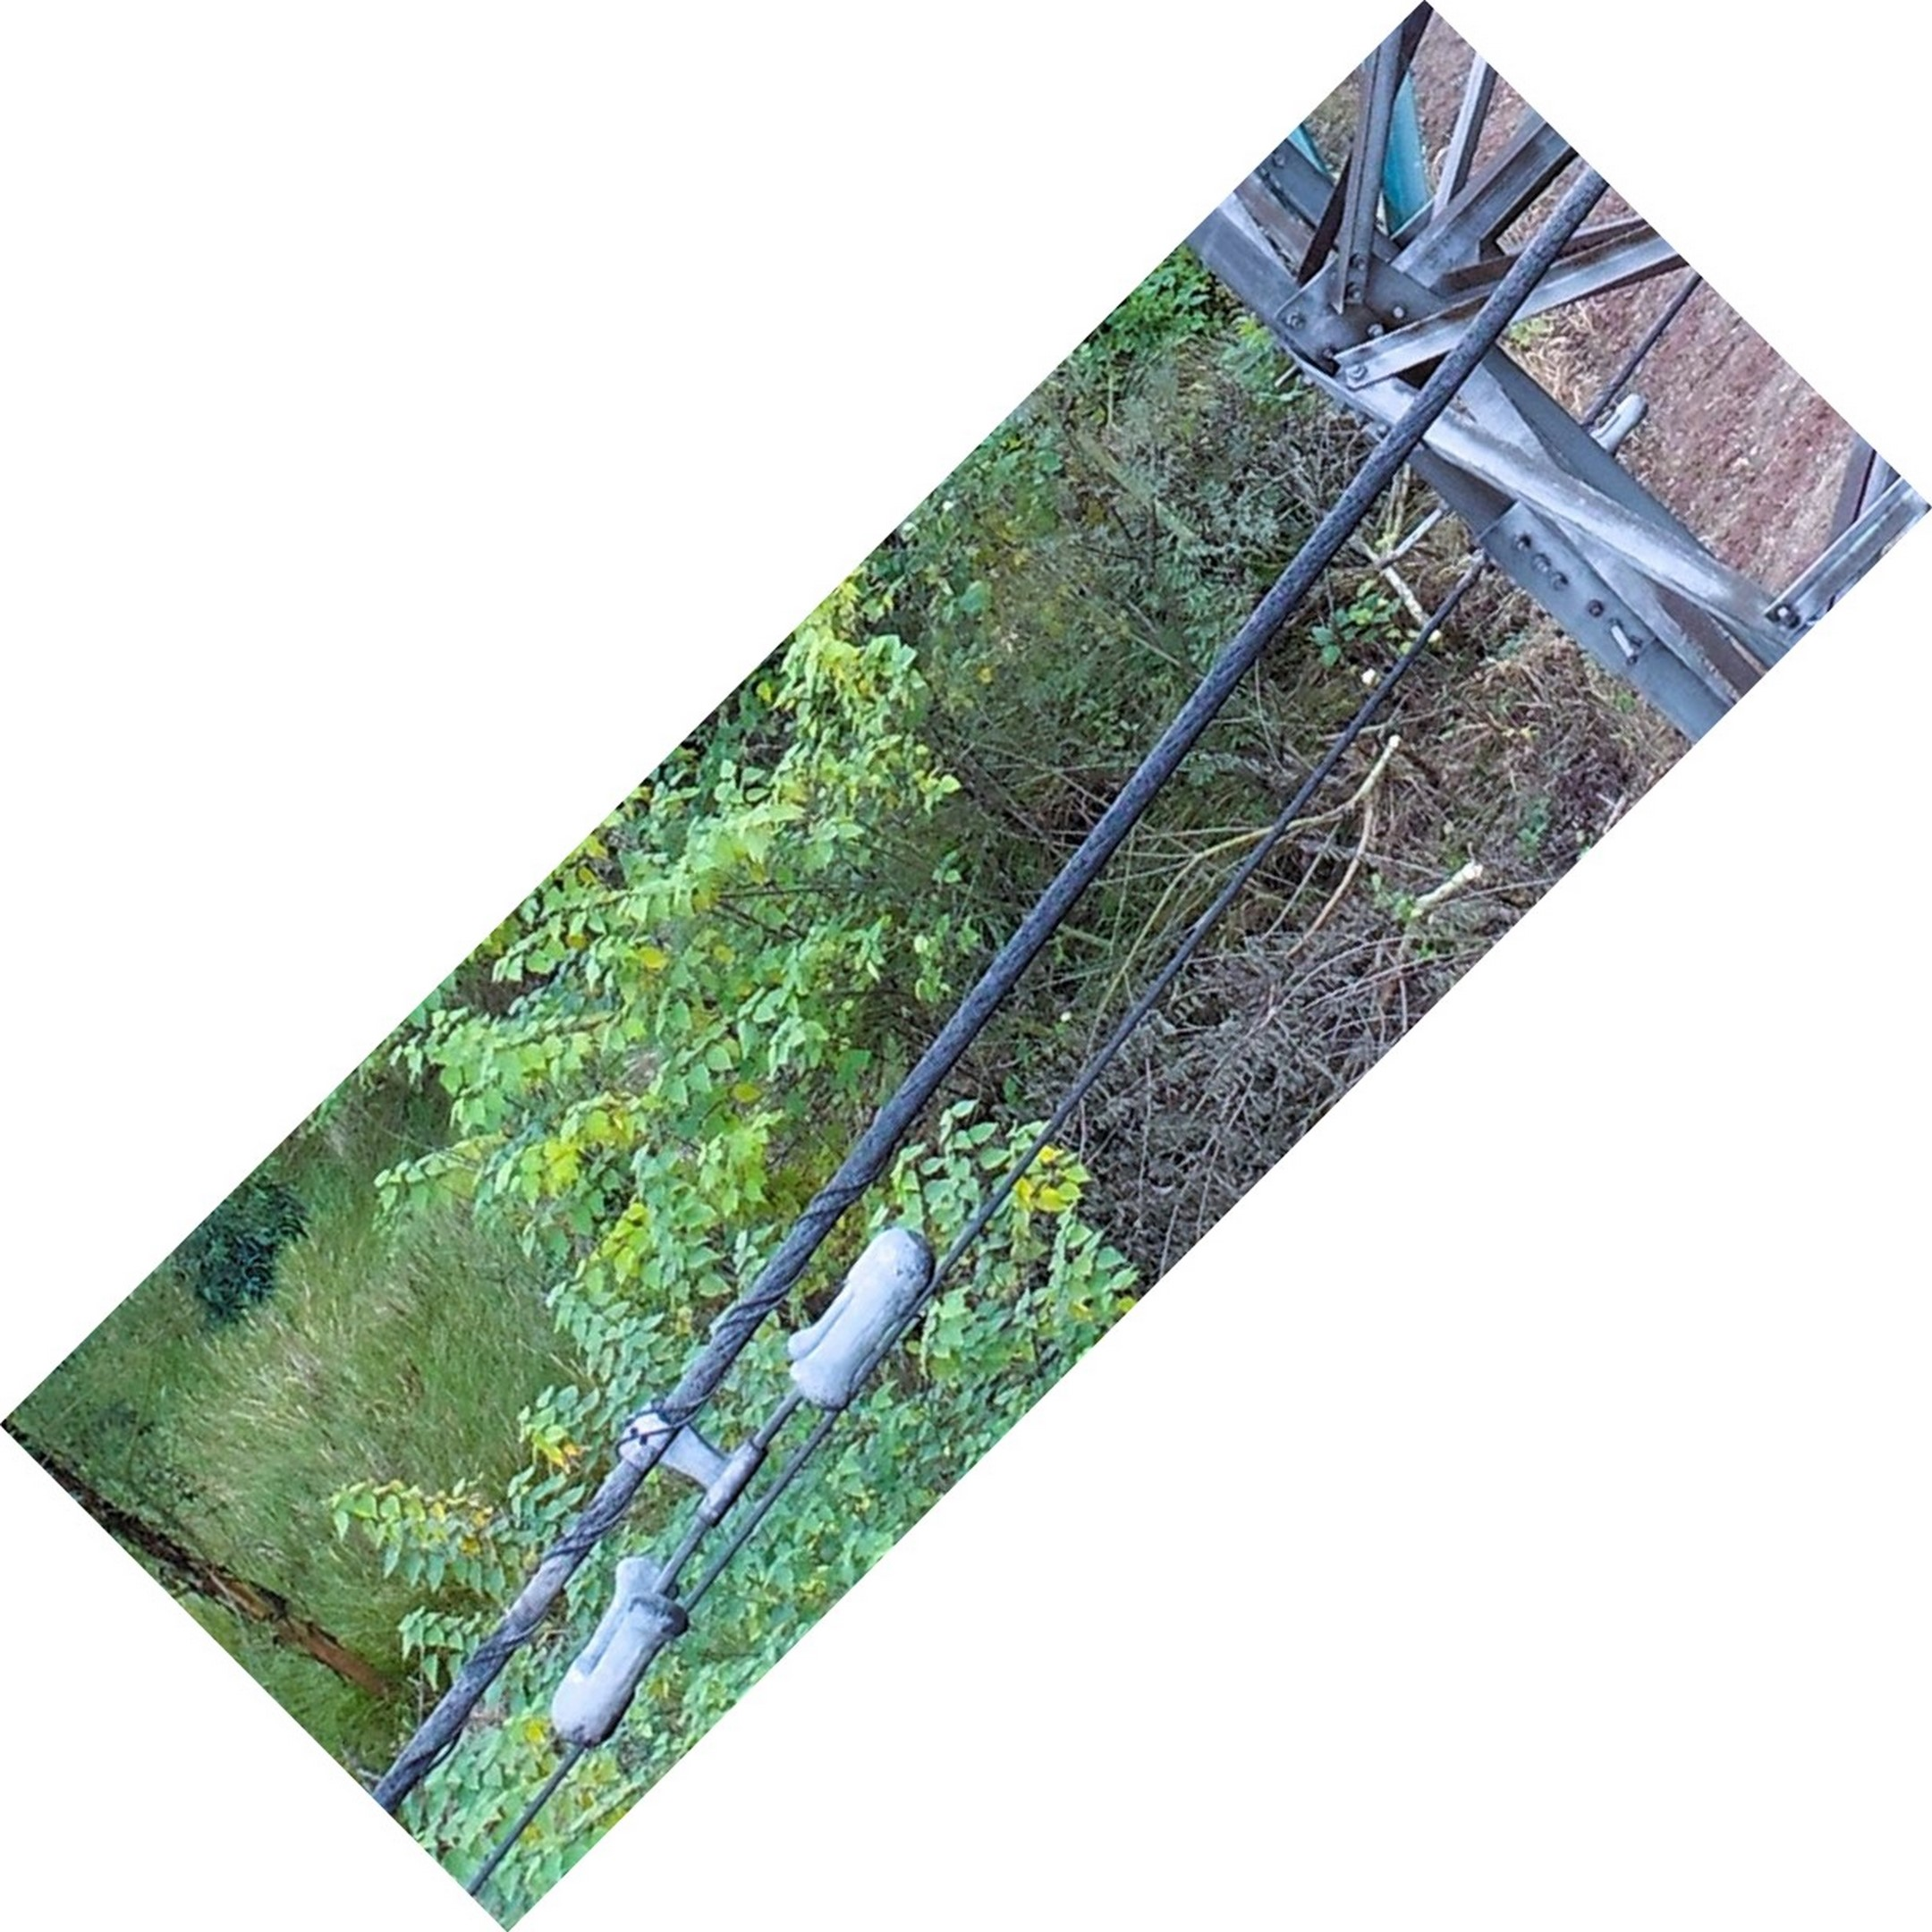Shockproof hammer: (517, 1201, 957, 1775)
